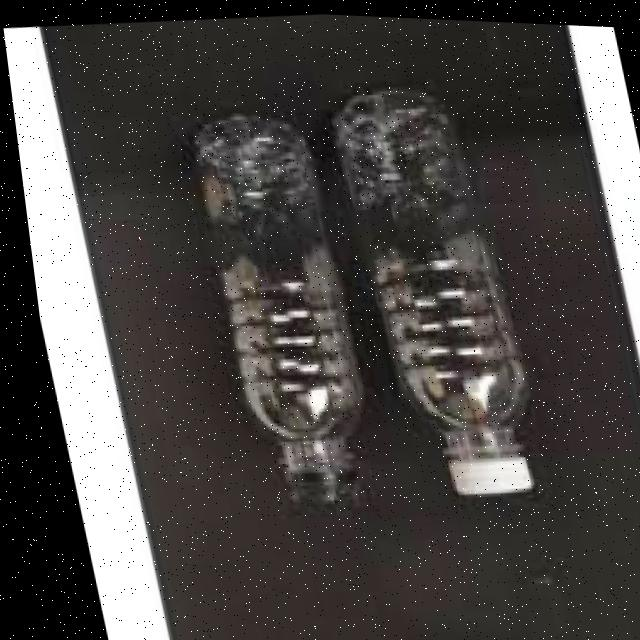sise: (316, 72, 547, 515), (152, 90, 389, 514)
